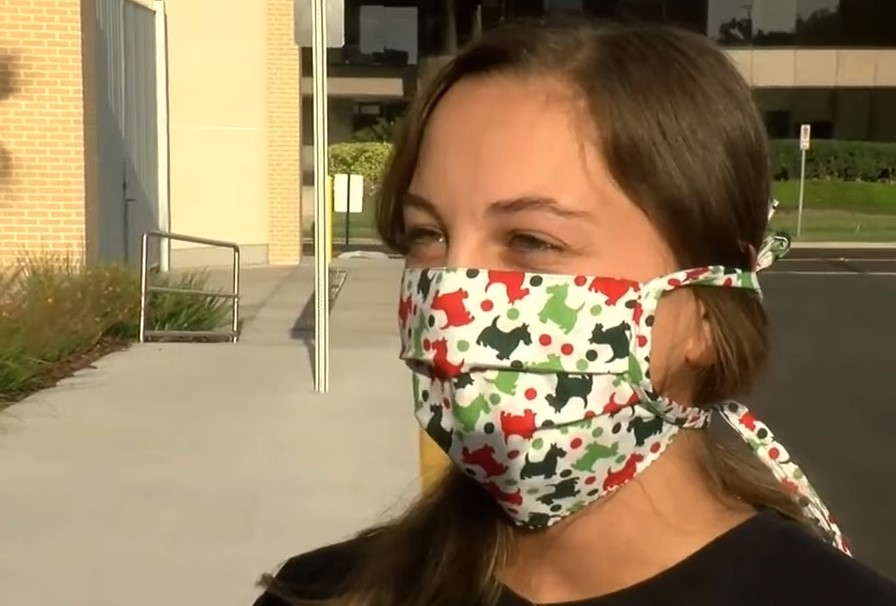face_with_mask: (384, 15, 786, 532)
